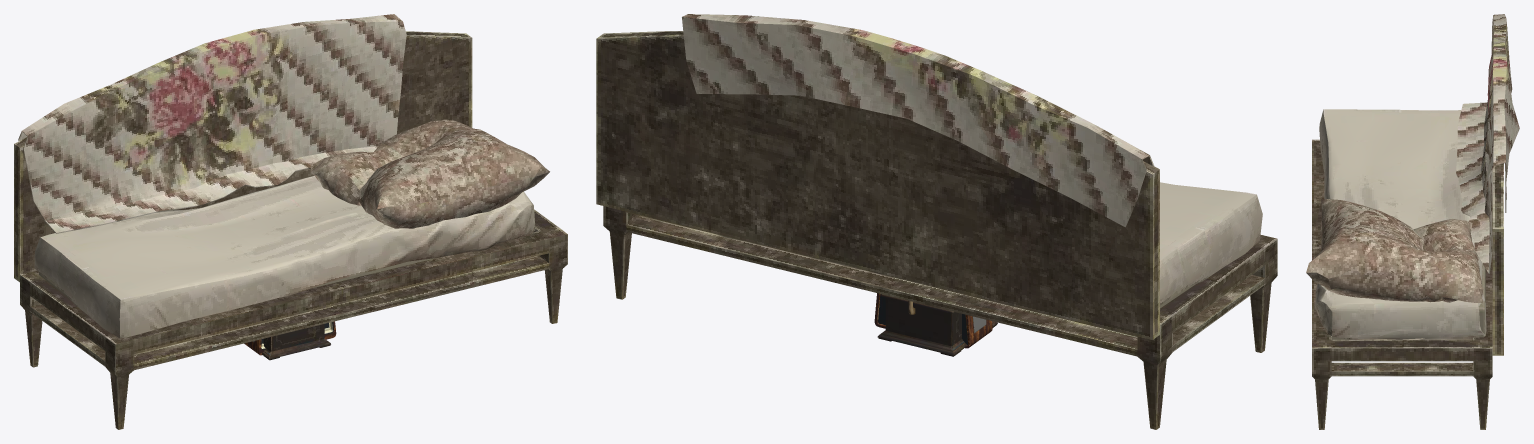
The model's file is props.glb.
The picture shows the model from 3 angles, left to right: view 1: azimuth 30°, elevation 25°; view 2: azimuth 150°, elevation 25°; view 3: azimuth 270°, elevation 25°; orthographic projection. The views are drawn at different scales.
Parts seen in each view (by area): view 1: body, gramophone; view 2: body, gramophone, radio; view 3: body.
Part boxes in pixels (<box>): body: <box>14,14,567,429</box>; gramophone: <box>262,324,330,360</box>; body: <box>596,14,1277,429</box>; gramophone: <box>877,294,997,356</box>; radio: <box>874,293,992,348</box>; body: <box>1306,14,1519,429</box>.
Bounding box in the file's own units: 1.97 × 1.13 × 0.8548.
4 materials, 4 textured.
